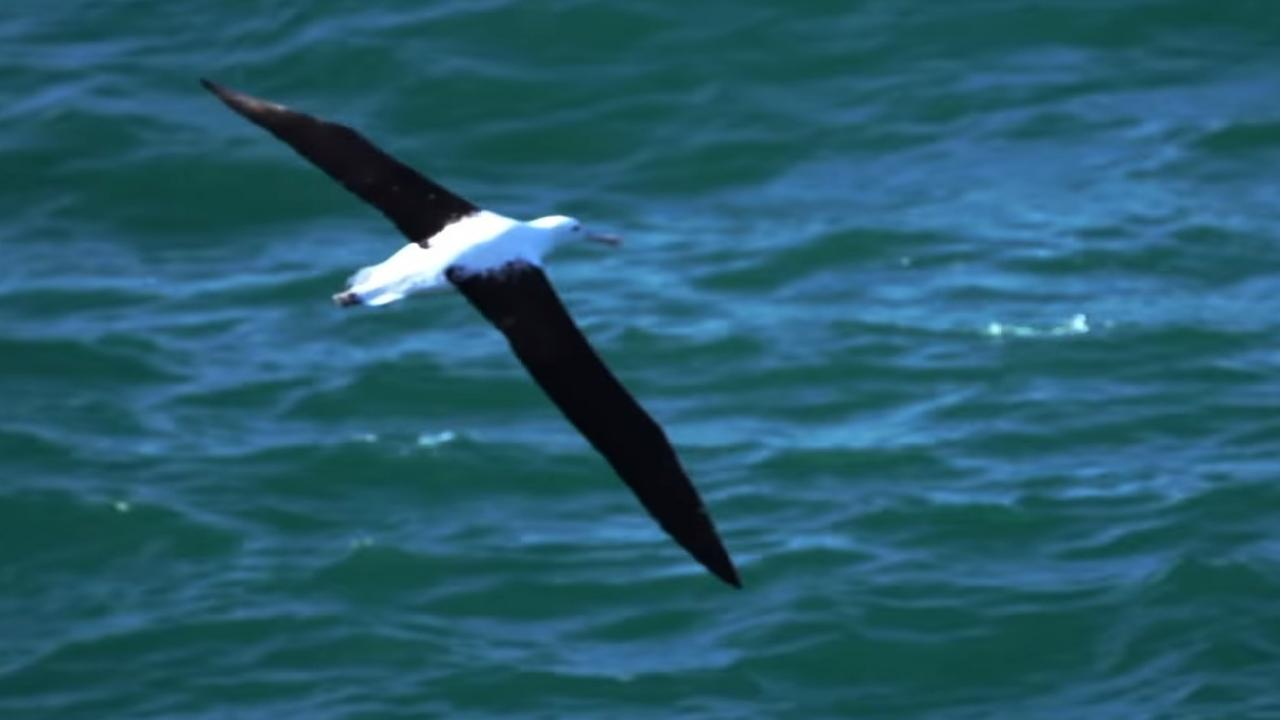Bird: (185, 65, 755, 597)
